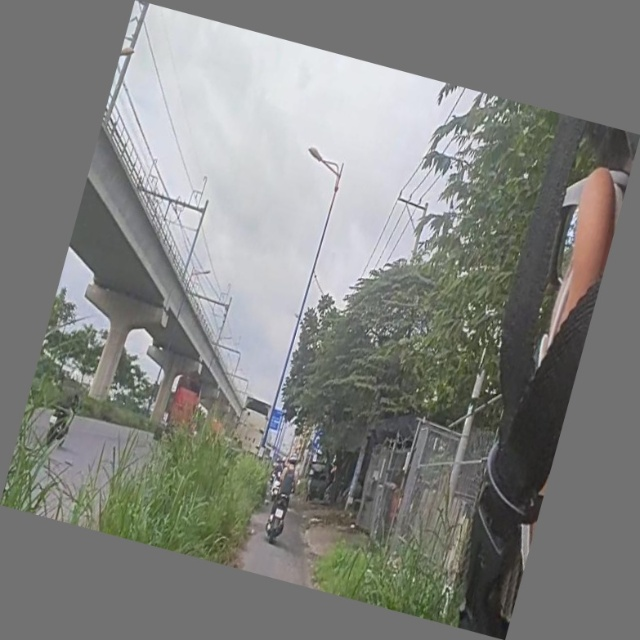I.409: (310, 431, 326, 452)
